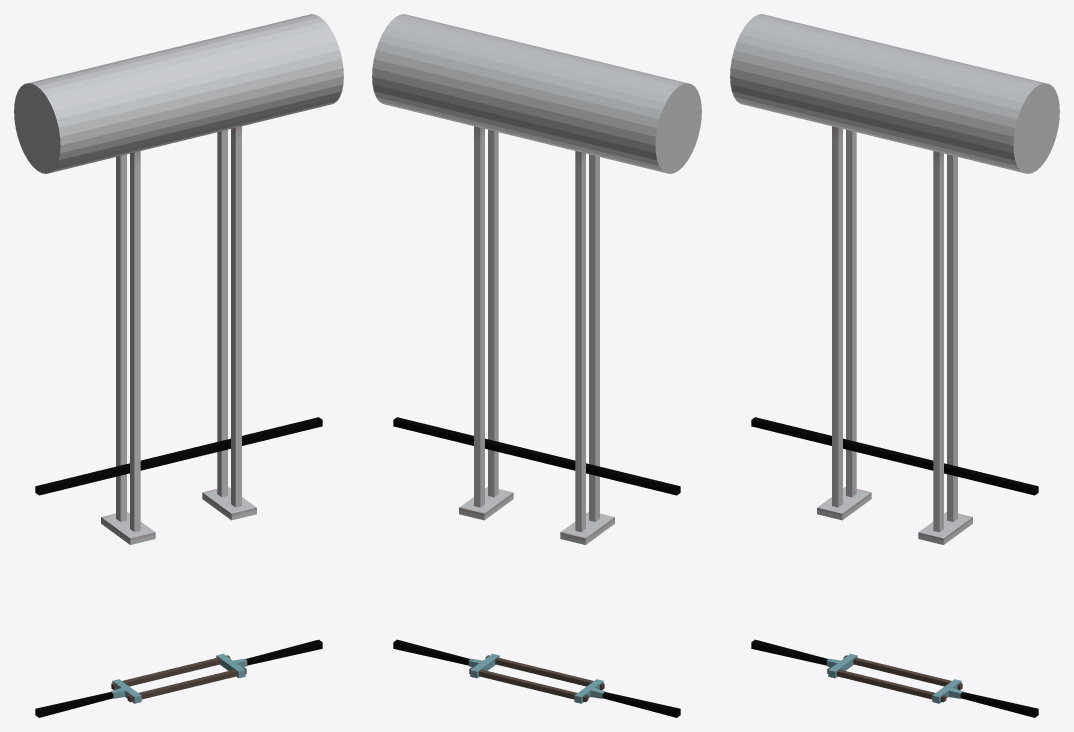
The model's file is moretop_expand-rigid.obj.
The picture shows the model from 3 angles, left to right: view 1: azimuth 30°, elevation 25°; view 2: azimuth 150°, elevation 25°; view 3: azimuth 330°, elevation 25°; orthographic projection.
Visible parts, largest first — view 1: moretop_1.001; view 2: moretop_1.001; view 3: moretop_1.001.
Boxes of the visible parts, x1=… form: moretop_1.001: x1=14, y1=14, x2=343, y2=717; moretop_1.001: x1=372, y1=14, x2=701, y2=717; moretop_1.001: x1=730, y1=14, x2=1059, y2=717.
Bounding box in the file's own units: 1.4 × 2.98 × 0.3978.
Materials: 2 (2 with a texture image).
